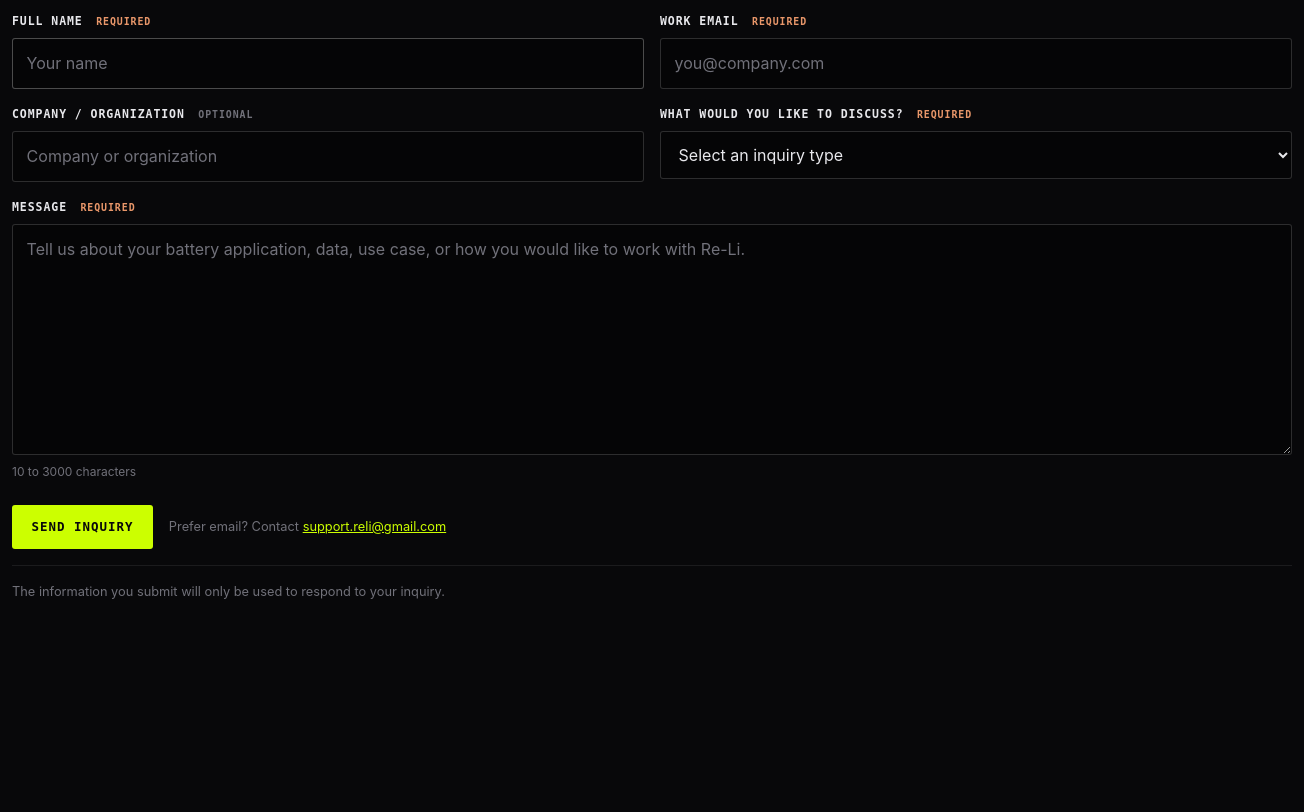
Scenario: contact inquiry form › maps structured provider validation errors to safe field messages without rendering the response
Type "Asha Rao" into the field labelled "Full Name Required".
click(328, 63); type("Asha Rao")  # box [12,38,644,89]
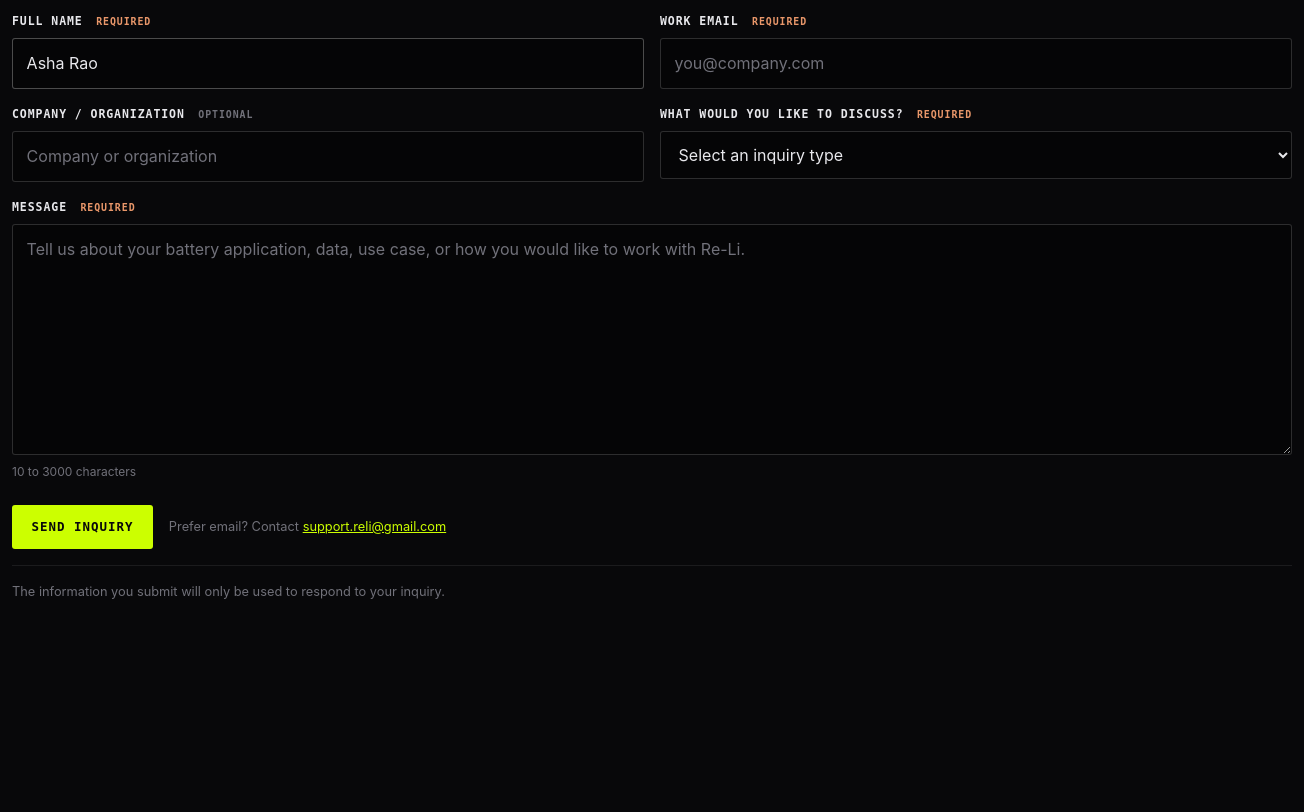
Type "asha@example.com" into the field labelled "Work Email Required".
click(976, 63); type("asha@example.com")  # box [660,38,1292,89]
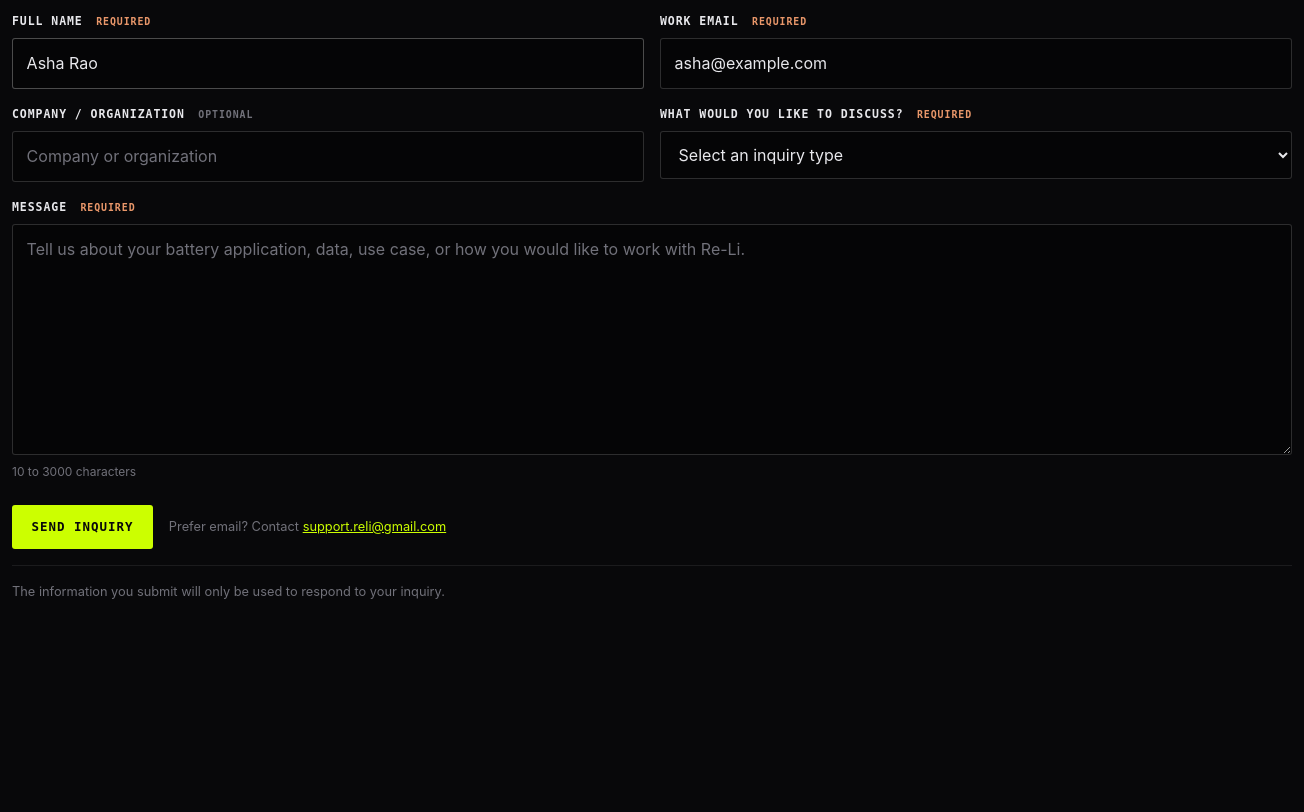
Type "Battery Lab" into the field labelled "Company / Organization Optional".
click(328, 157); type("Battery Lab")  # box [12,131,644,182]
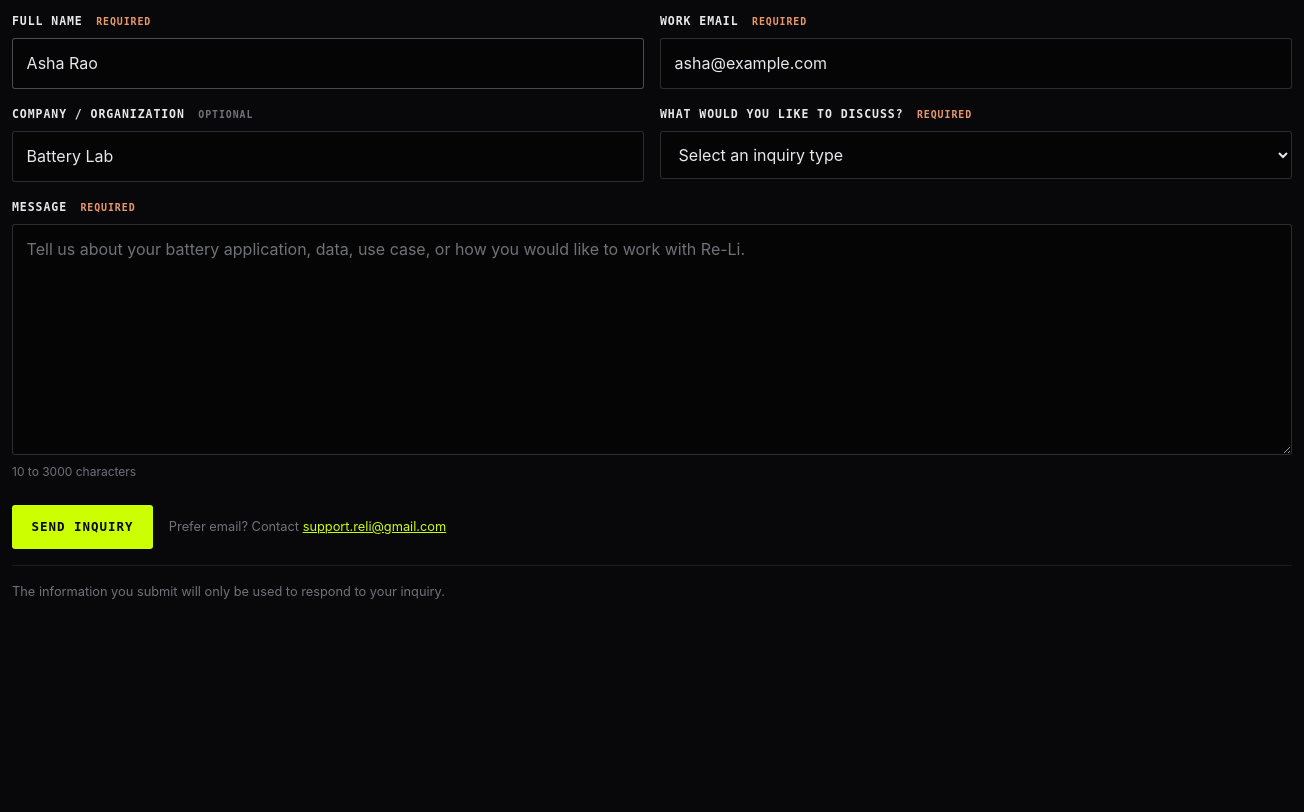
Select "Product Demo" in the dropdown labelled "What would you like to discuss? Required" at (976, 155), box [660,131,1292,179]
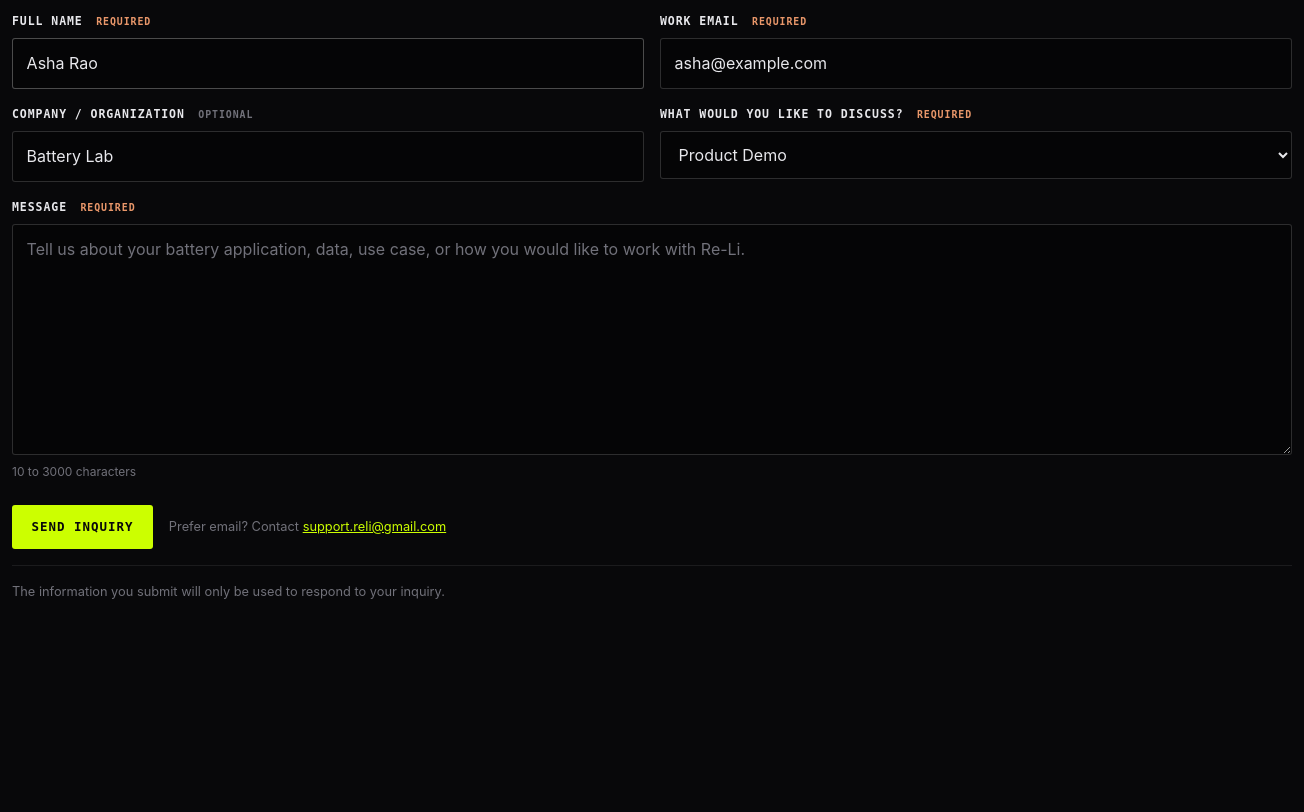
Replace the text in the text box labelled "Message Required" with "We would like to evaluate a supported battery dataset." at (652, 339), box [12,224,1292,455]
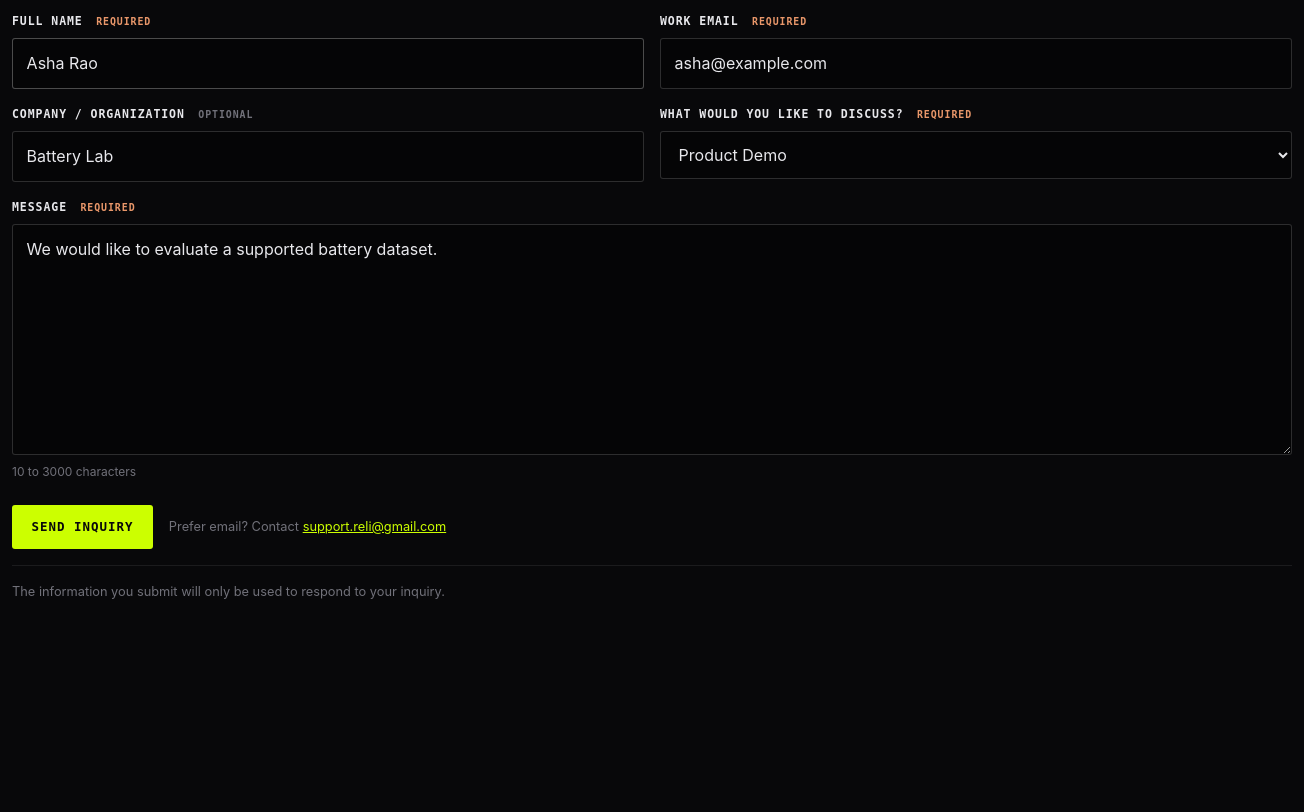
Click the button "Send Inquiry".
click(82, 527)  # box [12,505,153,549]
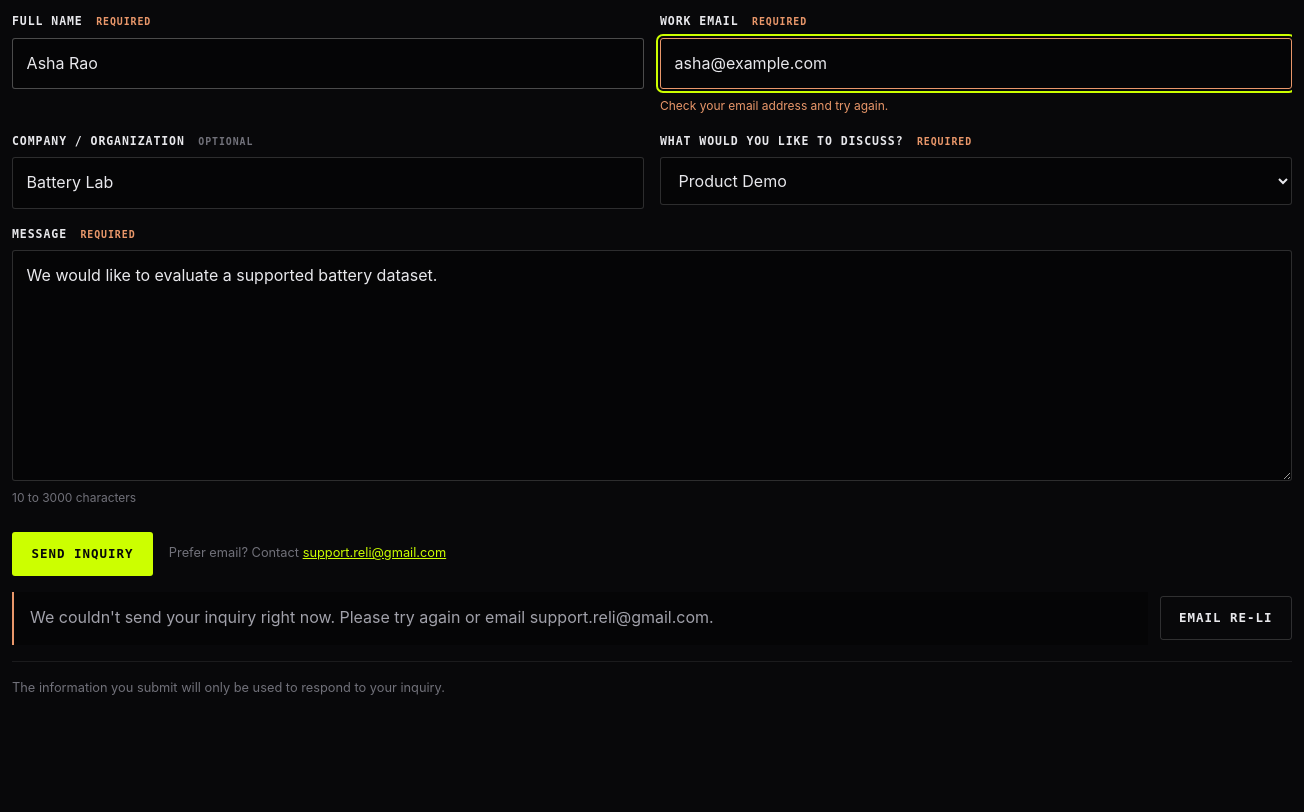
expect the text "Check your email address and try again." is shown: met, box [660,98,888,113]
